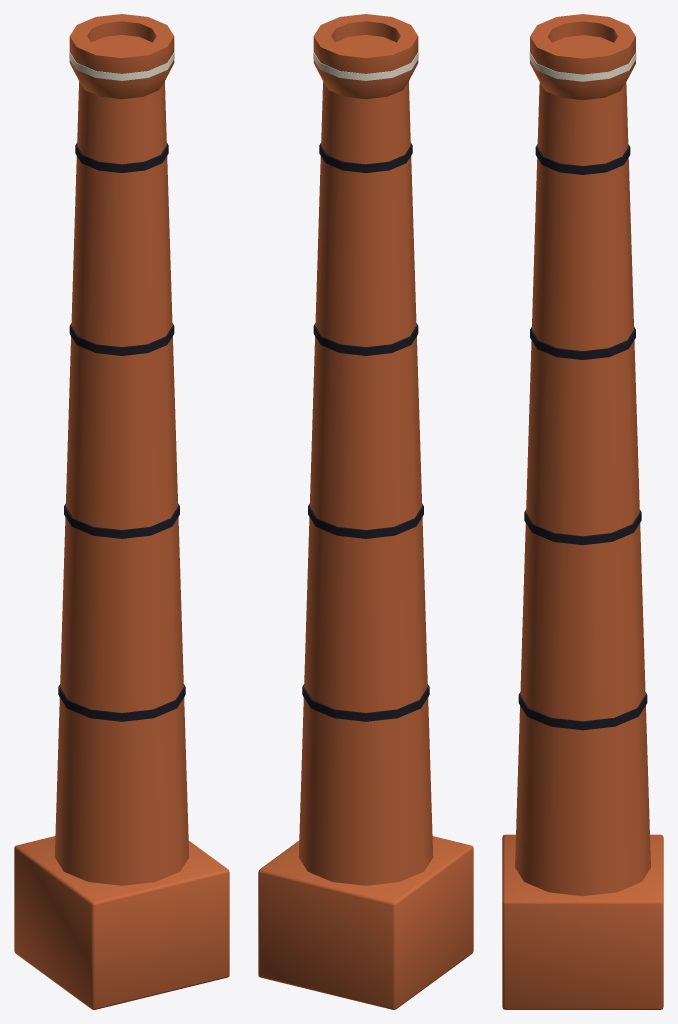
The model's file is Chimney.fbx.
3 renders of one model, left to right at view 1: azimuth 30°, elevation 25°; view 2: azimuth 150°, elevation 25°; view 3: azimuth 270°, elevation 25°, orthographic.
Visible parts, largest first — view 1: Chimney; view 2: Chimney; view 3: Chimney.
Boxes of the visible parts, x1,y1,x2,y2 form: Chimney: [14, 14, 229, 1009]; Chimney: [258, 14, 473, 1009]; Chimney: [502, 14, 663, 1009].
Size of the model in its own units: 3.2 by 20.6 by 3.2.
1 material, 1 textured.
